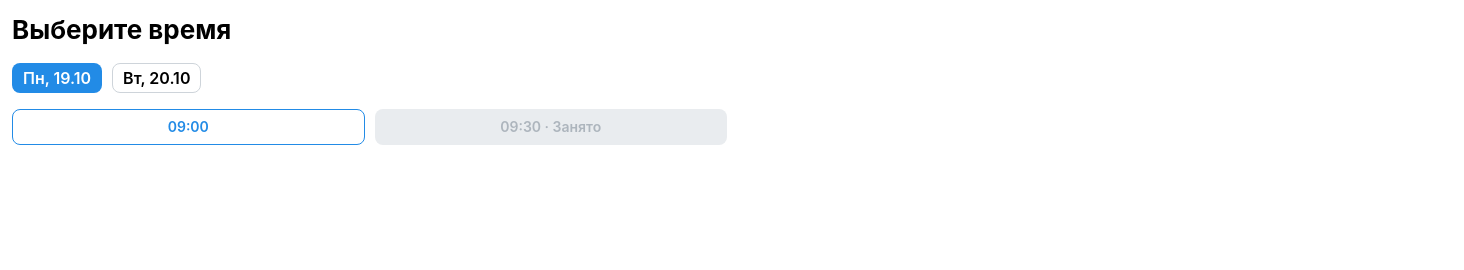
it: BookSlot › returns to the calendar and reloads slots when the slot is already taken
The image size is (1464, 270).
Click the button "09:00": (188, 127) [12, 109, 364, 145]
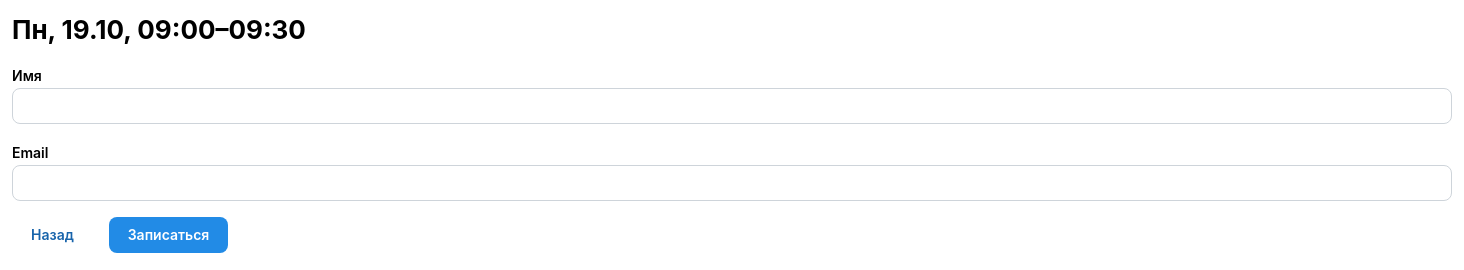
In the field labelled "Имя": (732, 106) [12, 88, 1452, 124], type "Иван"
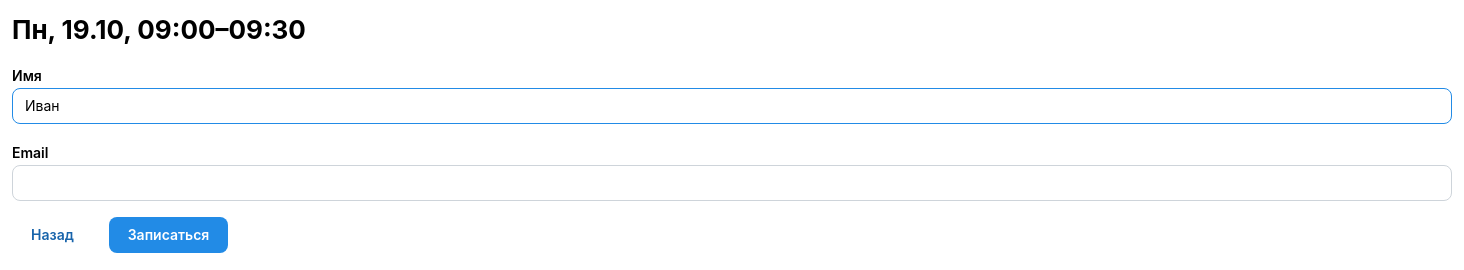
In the field labelled "Email": (732, 183) [12, 165, 1452, 201], type "ivan@example.com"
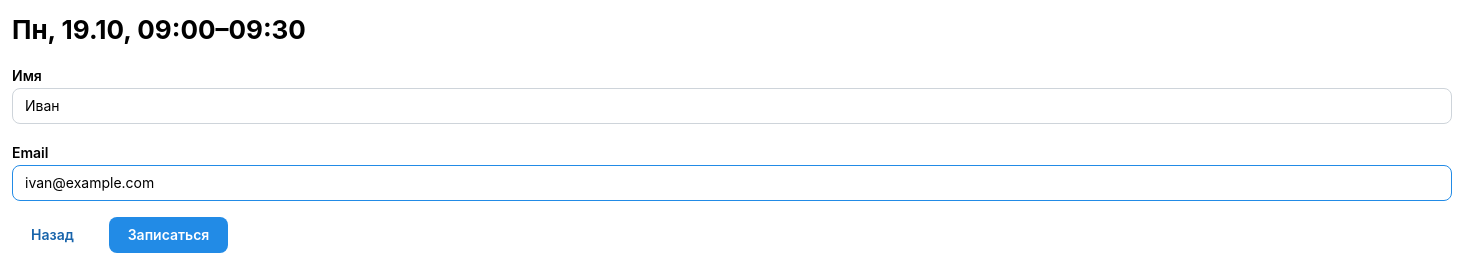
Click the button "Записаться": (168, 235) [109, 217, 228, 253]
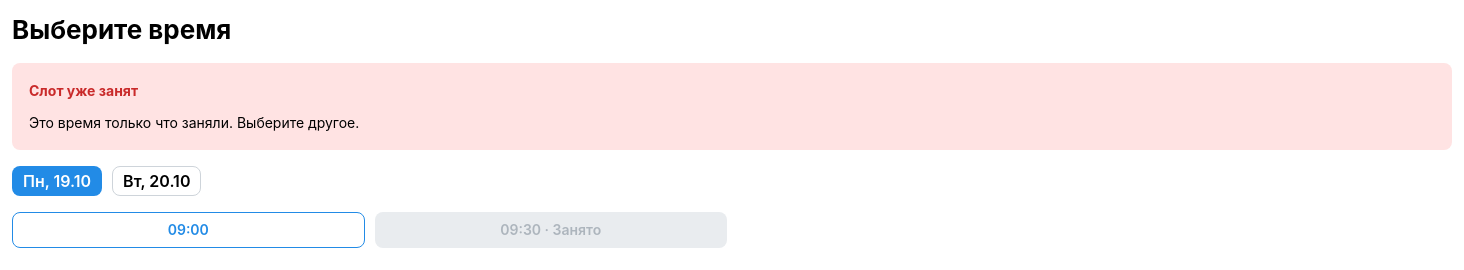
Expected: the text "Слот уже занят" is shown, [29, 80, 138, 102]
Expected: the heading "Выберите время" is shown, [12, 14, 231, 45]
